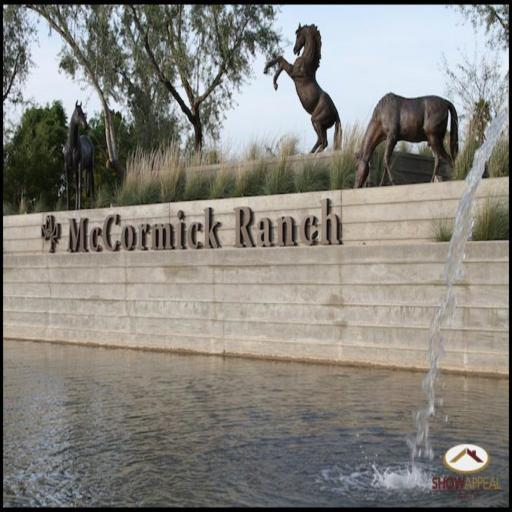horse: (260, 17, 343, 153), (348, 90, 459, 188)
